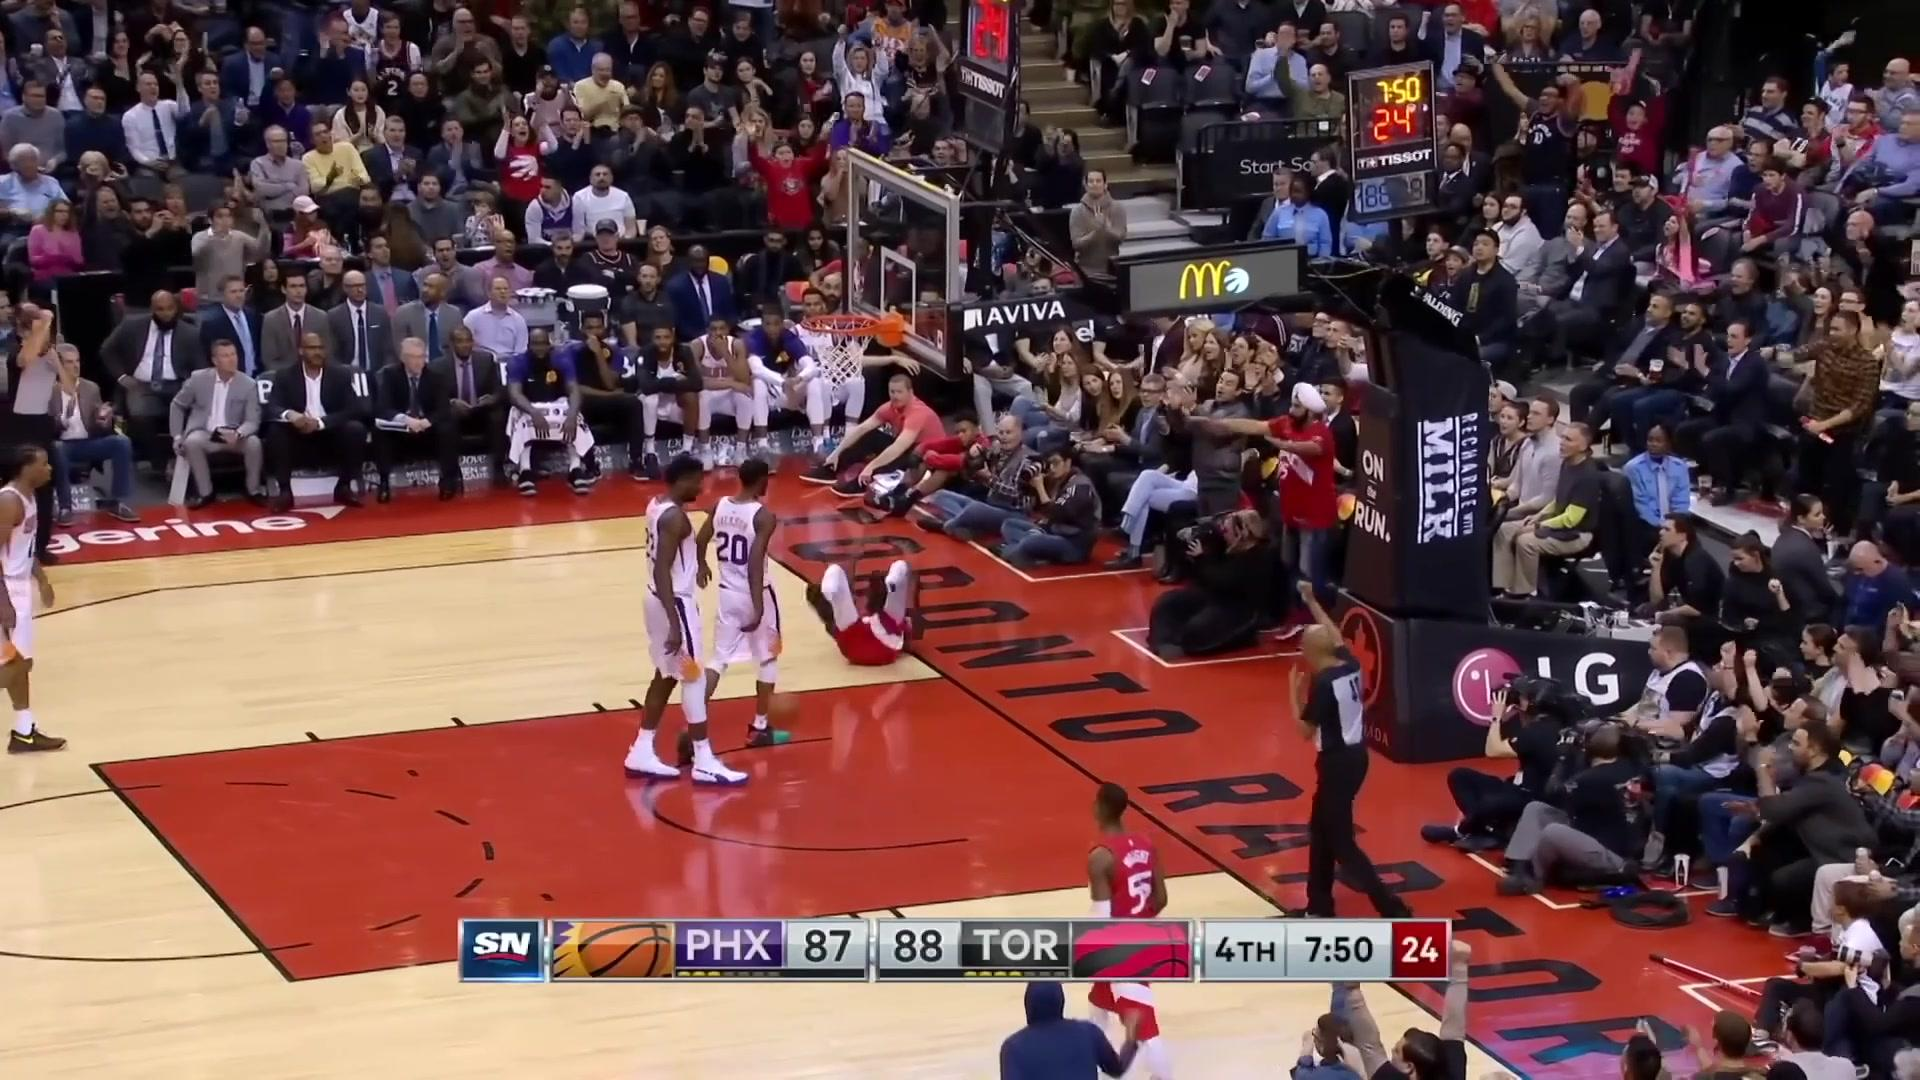foul: (686, 446, 928, 707)
